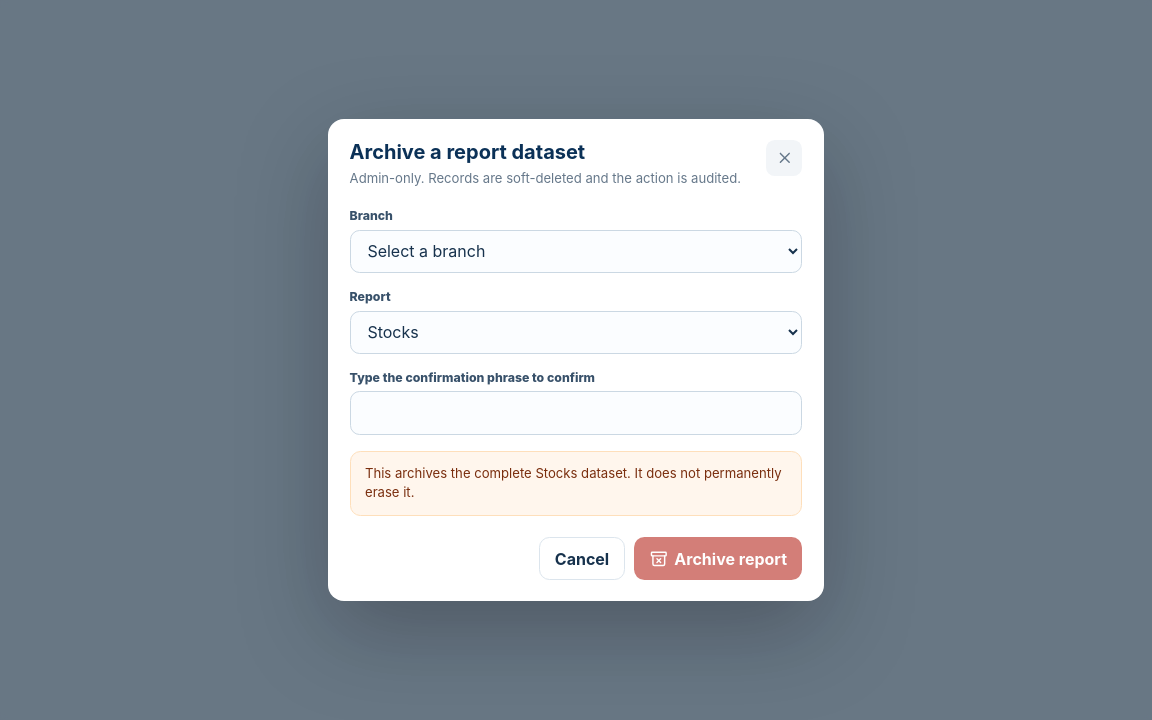
Test: ClearReportDialog › requires the exact branch and report confirmation phrase
Expected: the button "Archive report" is disabled, [634,537,802,580]
Select "GAI — Gaisano Iloilo" in the dropdown labelled "Branch". click: (576,251)
box: [350,230,802,273]
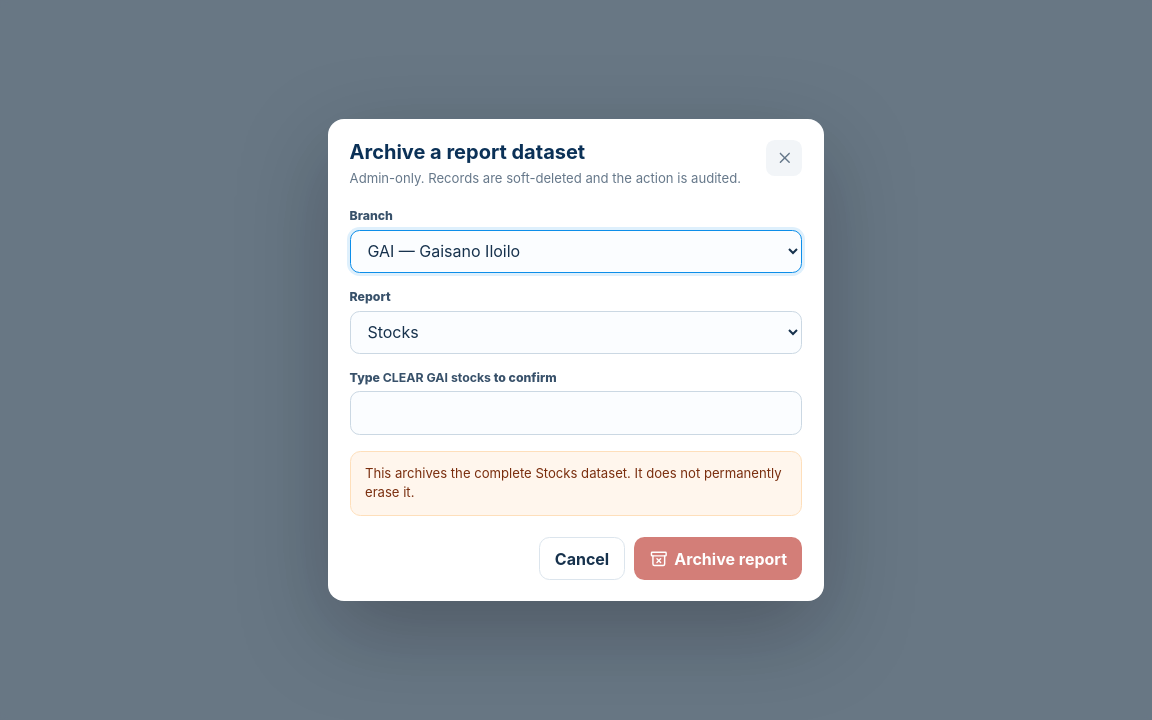
Select "Sold Out" in the dropdown labelled "Report". click: (576,332)
box: [350,311,802,354]
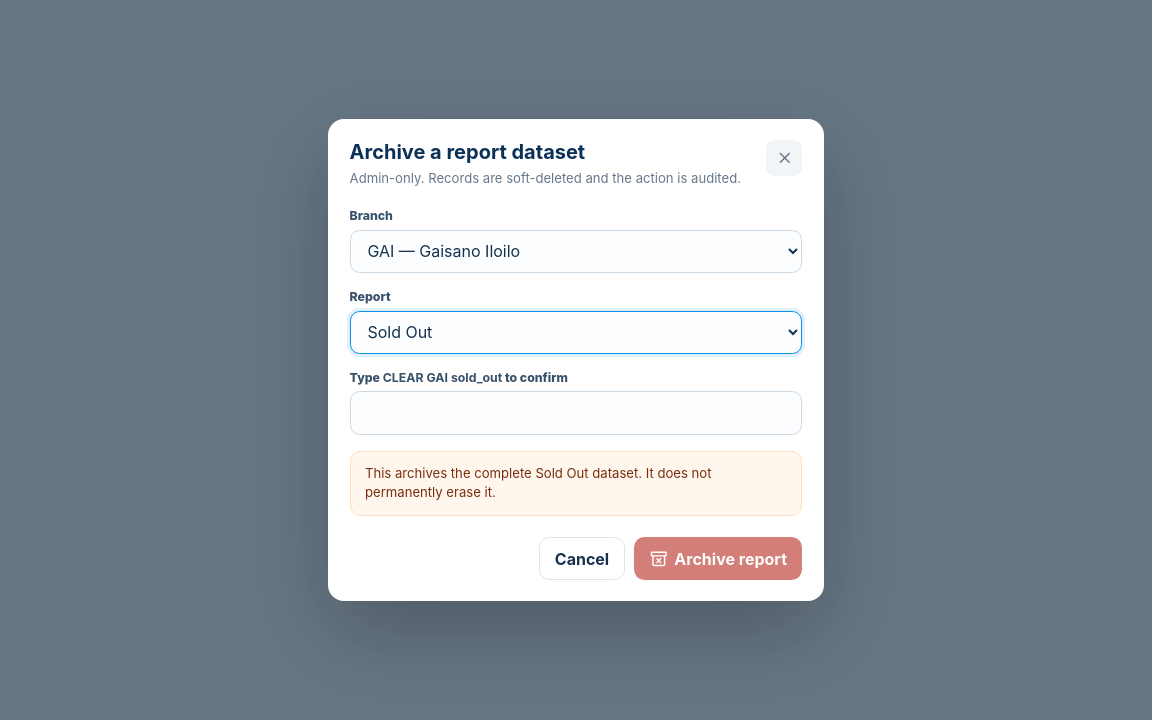
Type "CLEAR GAI sold_out" into the field labelled "Type CLEAR GAI sold_out to confirm". click: (576,413)
box: [350,392,802,435]
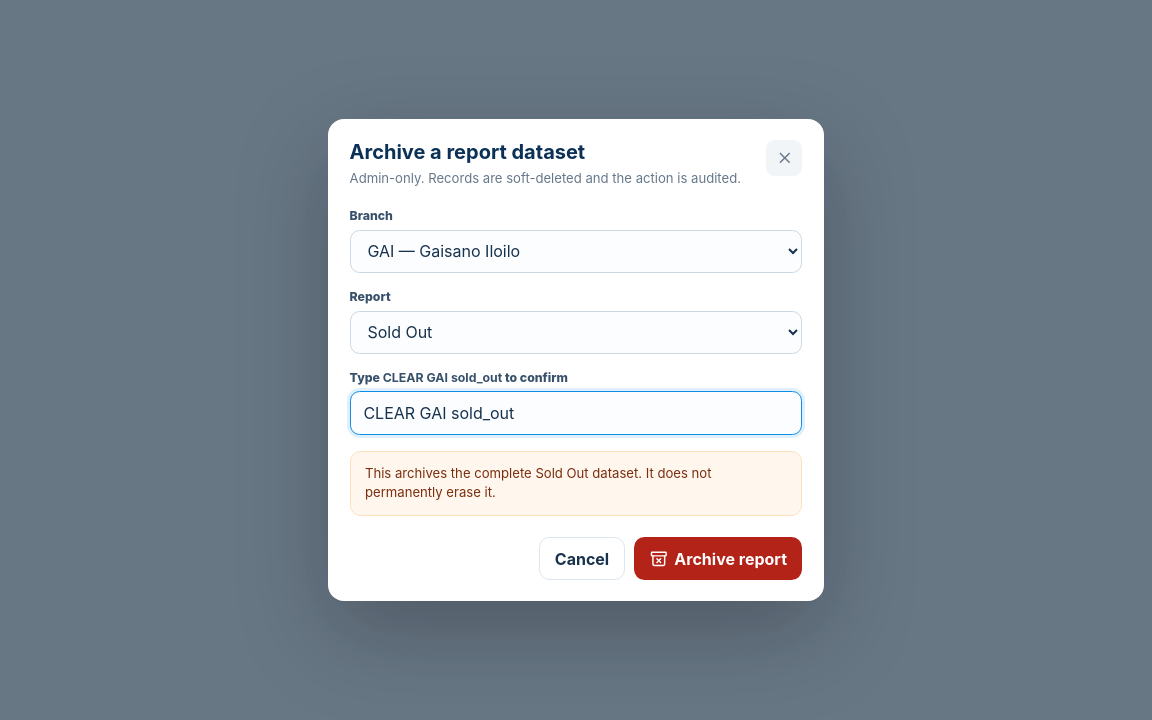
Expected: the button "Archive report" is enabled, [634,537,802,580]
